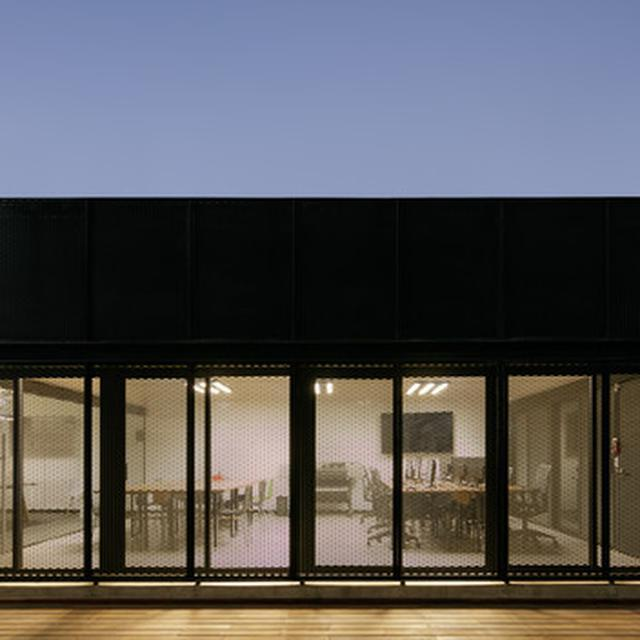building: (0, 196, 640, 602)
